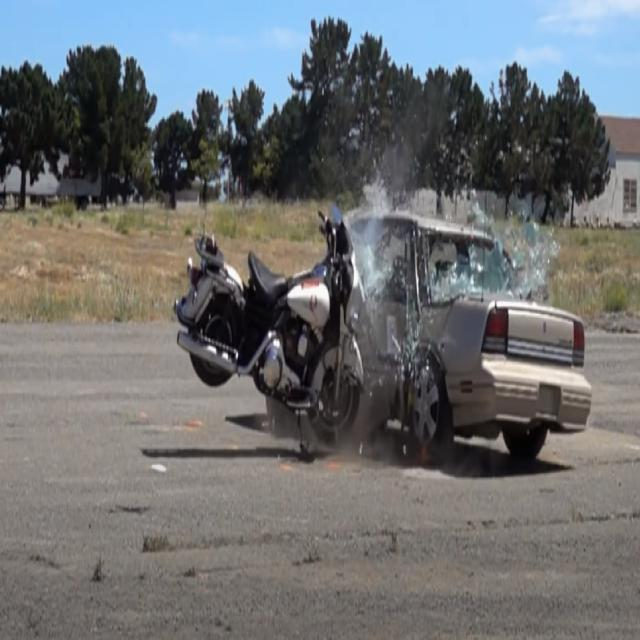accident: (167, 197, 597, 476)
